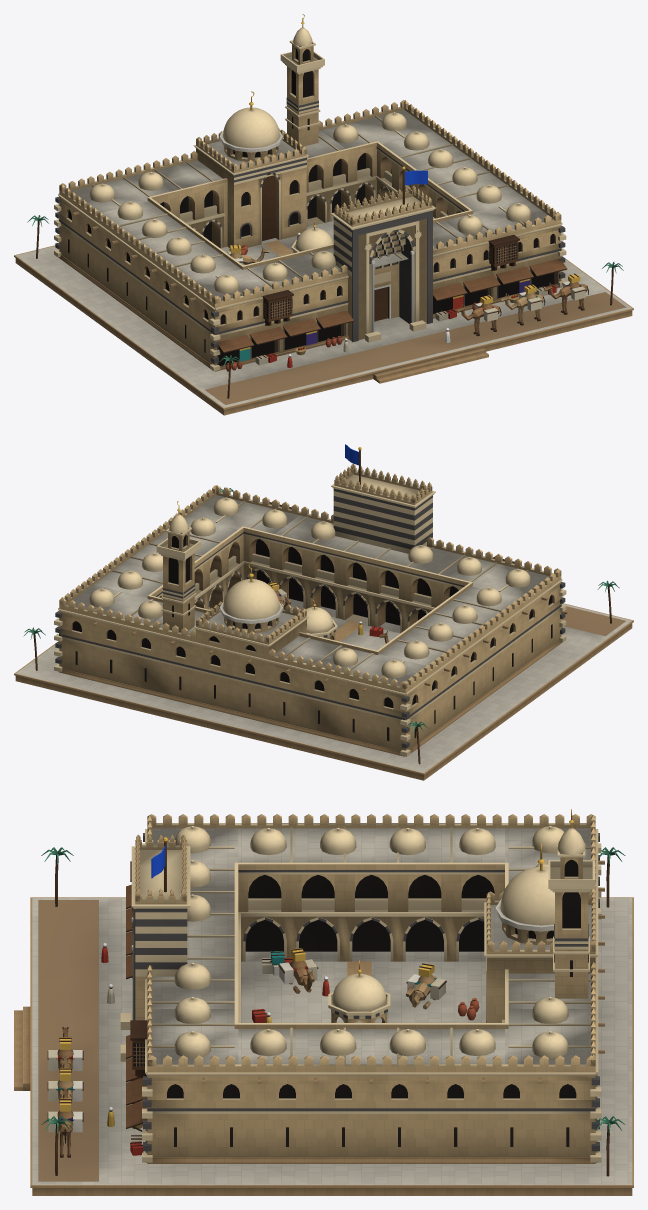
The model's file is lm_kervanhani.glb.
3 views of the same model, one above another, from view 1: azimuth 30°, elevation 25°; view 2: azimuth 150°, elevation 25°; view 3: azimuth 270°, elevation 25° (orthographic). The views are drawn at different scales.
Parts seen in each view (by area): view 1: lm_kervanhani; view 2: lm_kervanhani; view 3: lm_kervanhani.
Part boxes in pixels (bbox=[...]): lm_kervanhani: bbox=[14, 14, 633, 415]; lm_kervanhani: bbox=[14, 444, 633, 780]; lm_kervanhani: bbox=[14, 809, 633, 1195].
Bounding box in the file's own units: 2.25 × 1.04 × 2.05.
Materials: 1 (1 with a texture image).
